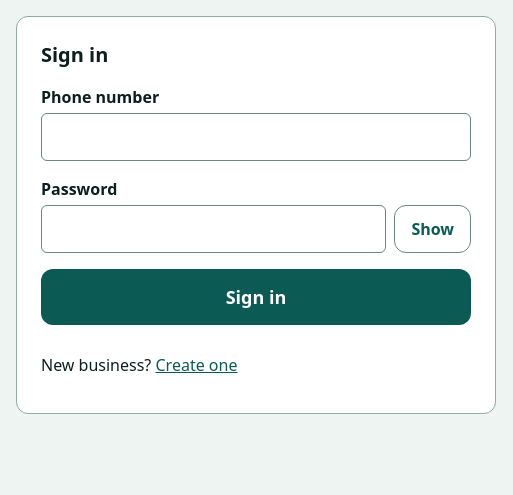
Scenario: SignInPage (M2, US1.2) › shows INVALID_CREDENTIALS in the summary, which takes focus, without naming a field
Check: the heading "Sign in" is shown, box [41, 41, 108, 68]
Type "01711000001" into the field labelled "Phone number".
click(256, 137); type("01711000001")  # box [41, 113, 471, 161]
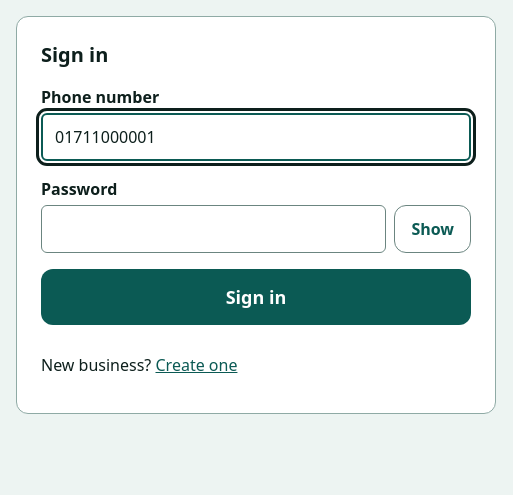
Type "correct horse" into the password field with test id "signin-password-input".
click(214, 229); type("correct horse")  # box [41, 205, 386, 253]
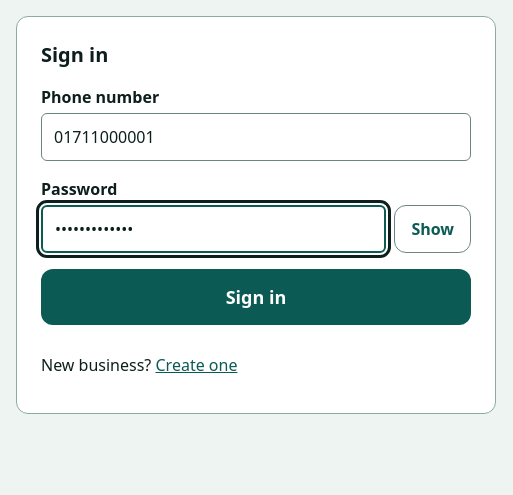
Click the button with test id "signin-submit-button".
click(256, 297)  # box [41, 269, 471, 325]
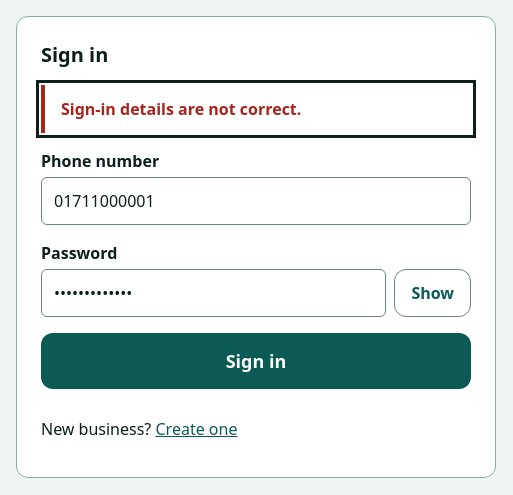
Check: the element with test id "signin-error-summary" reads "Sign-in details are not correct.", box [61, 98, 301, 120]
